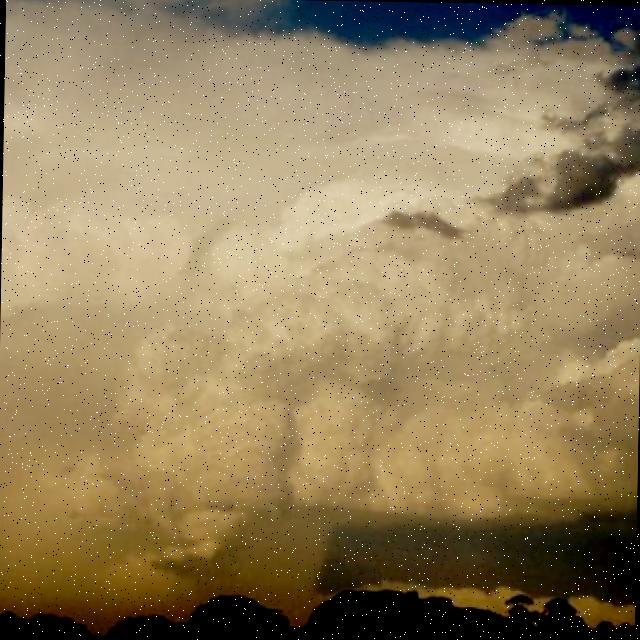Cb: (1, 45, 640, 513)
